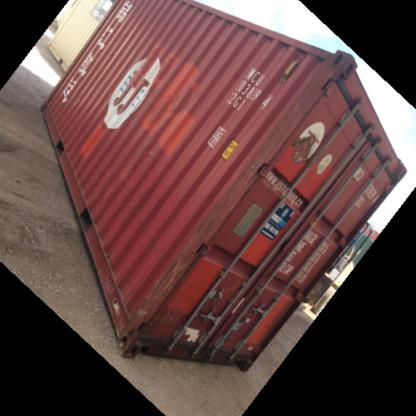Damage: (183, 160, 274, 240), (254, 68, 336, 152), (115, 245, 201, 323), (181, 320, 209, 358), (222, 308, 241, 358)
